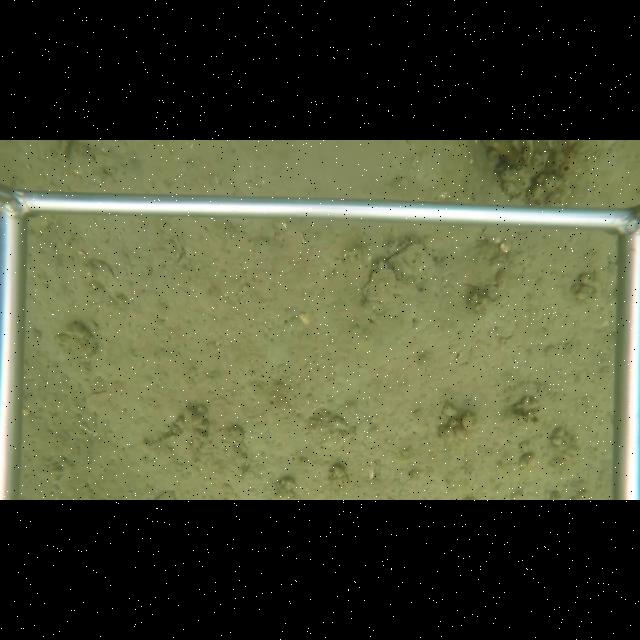Oyster-Closed: (361, 243, 441, 322)
